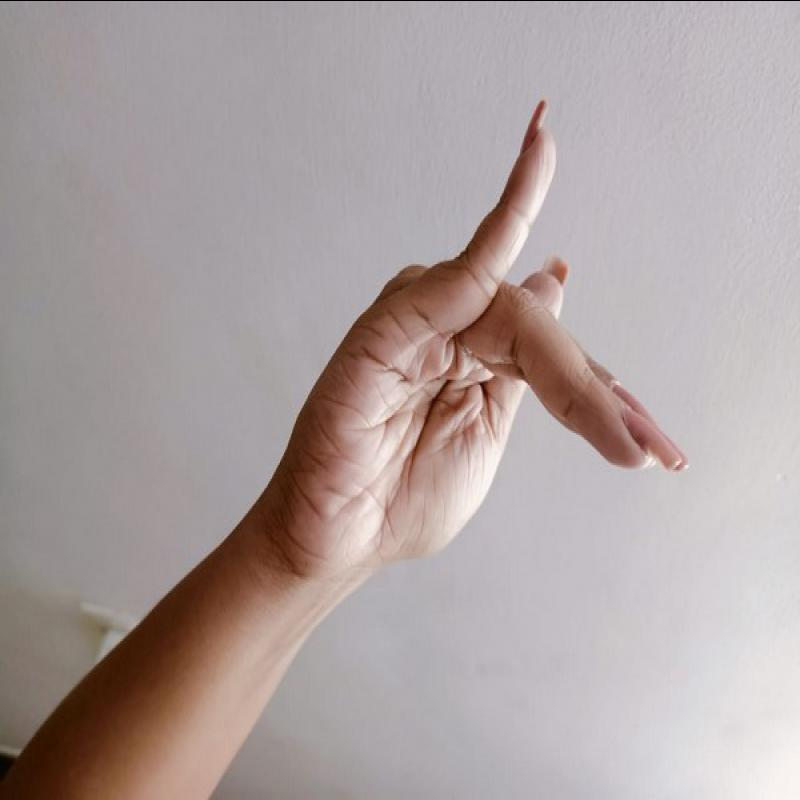Kartharee Mukham: (264, 86, 706, 597)
